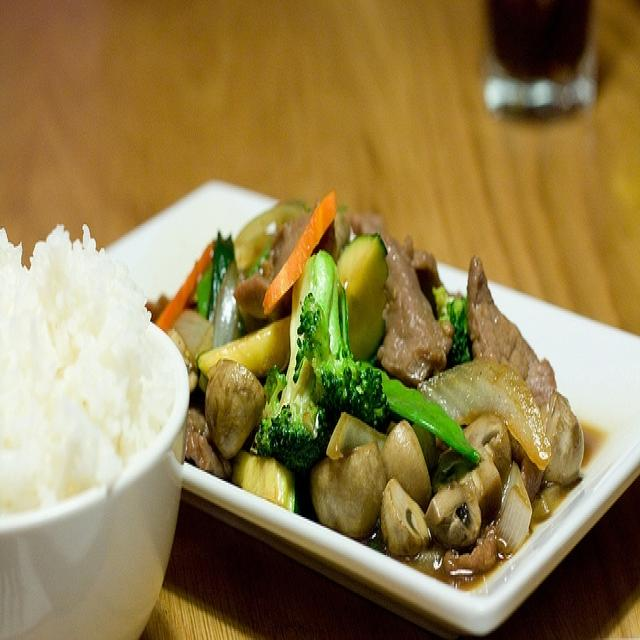牛肉菜式: (138, 157, 582, 593)
